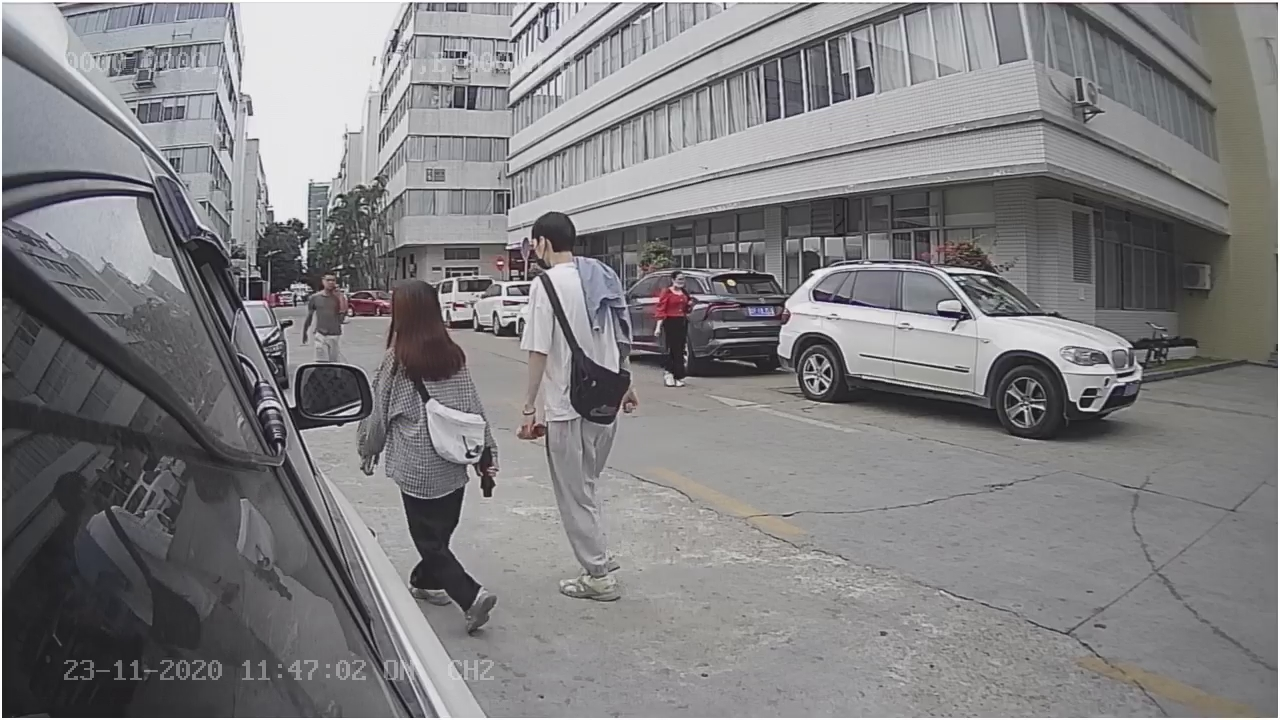person: (513, 197, 637, 610)
